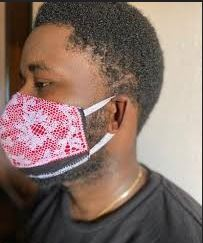with_facemask: (1, 90, 105, 193)
